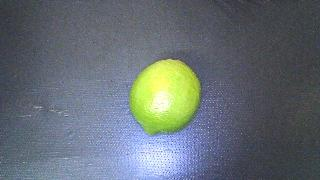EXPORTACION: (129, 59, 201, 135)
